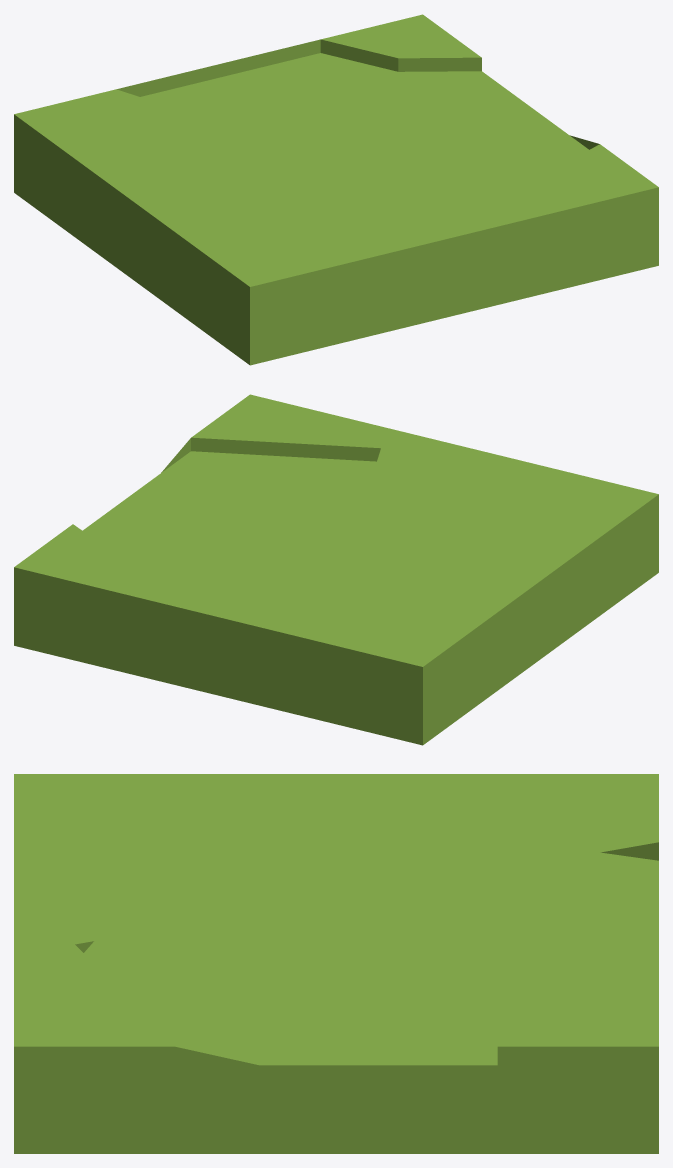
File: roadtile_016.glb
3 views of the same model, one above another, from view 1: azimuth 30°, elevation 25°; view 2: azimuth 150°, elevation 25°; view 3: azimuth 270°, elevation 25° (orthographic). The views are drawn at different scales.
Parts seen in each view (by area): view 1: Mesh1 Group1 Model; view 2: Mesh1 Group1 Model; view 3: Mesh1 Group1 Model.
Part boxes in pixels (<box>): Mesh1 Group1 Model: <box>14,14,658,365</box>; Mesh1 Group1 Model: <box>14,394,658,745</box>; Mesh1 Group1 Model: <box>14,774,658,1153</box>.
Bounding box in the file's own units: 3 × 0.55 × 3.
